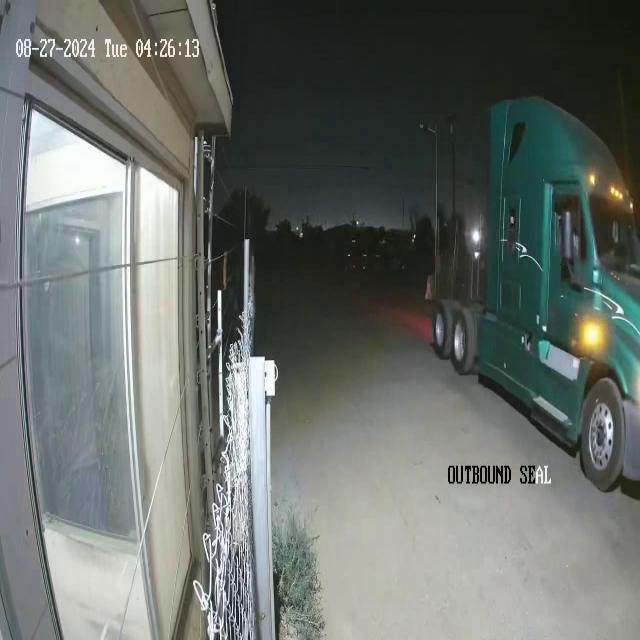TRUCK_IN: (429, 94, 639, 492)
